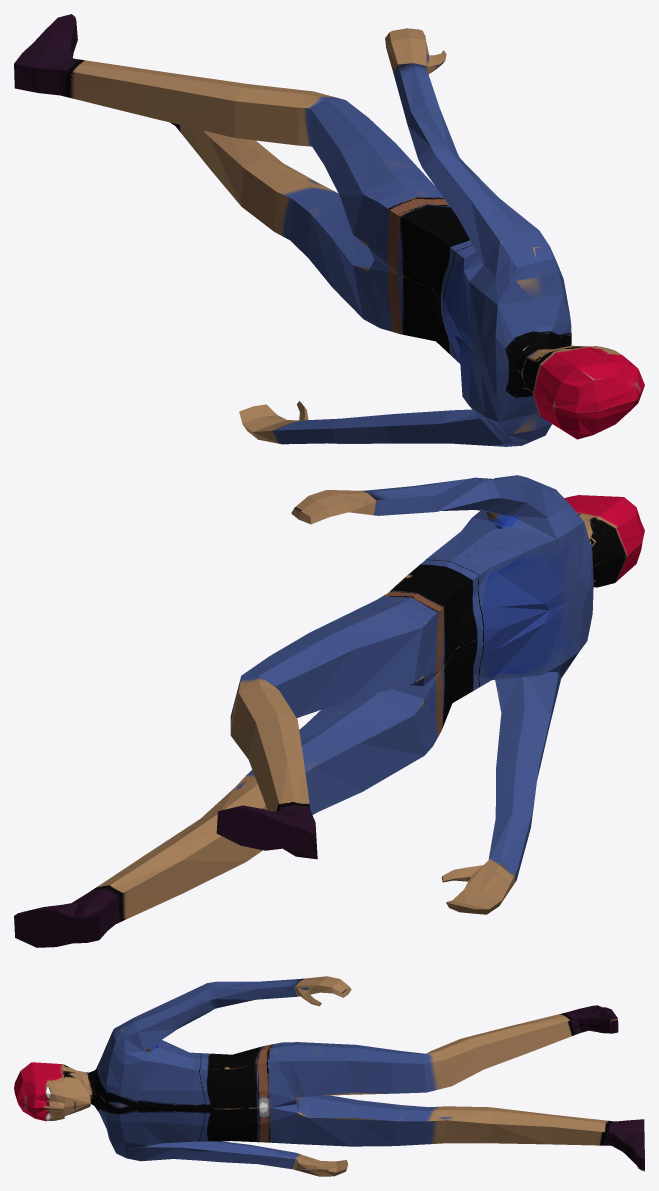
File: mirrorman_000030.obj
3 views of the same model, one above another, from view 1: azimuth 30°, elevation 25°; view 2: azimuth 150°, elevation 25°; view 3: azimuth 270°, elevation 25° (orthographic). The views are drawn at different scales.
Parts seen in each view (by area): view 1: mirrorman_Cube.001_Material.001; view 2: mirrorman_Cube.001_Material.001; view 3: mirrorman_Cube.001_Material.001.
Boxes of the visible parts, x1=… form: mirrorman_Cube.001_Material.001: x1=14, y1=14, x2=644, y2=446; mirrorman_Cube.001_Material.001: x1=14, y1=475, x2=644, y2=947; mirrorman_Cube.001_Material.001: x1=14, y1=976, x2=644, y2=1176.
Bounding box in the file's own units: 0.5733 × 0.7871 × 1.9.
1 material, 1 textured.
